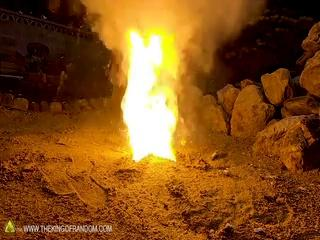Fire: (119, 30, 180, 161)
